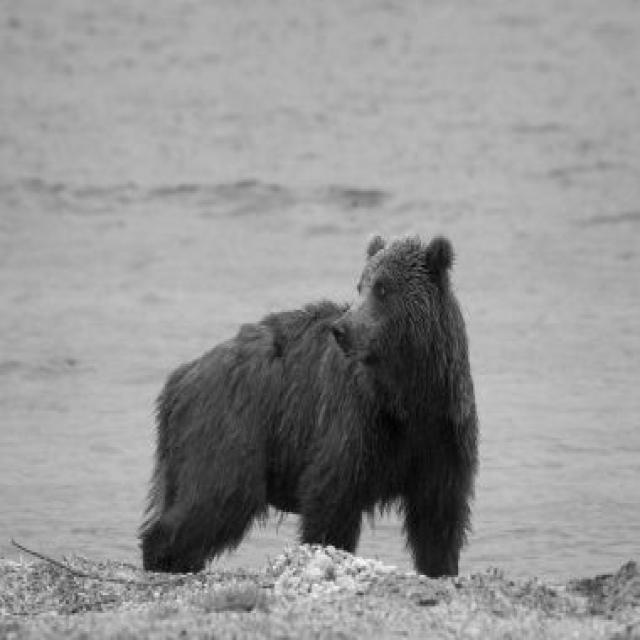Animal: (138, 237, 478, 576)
